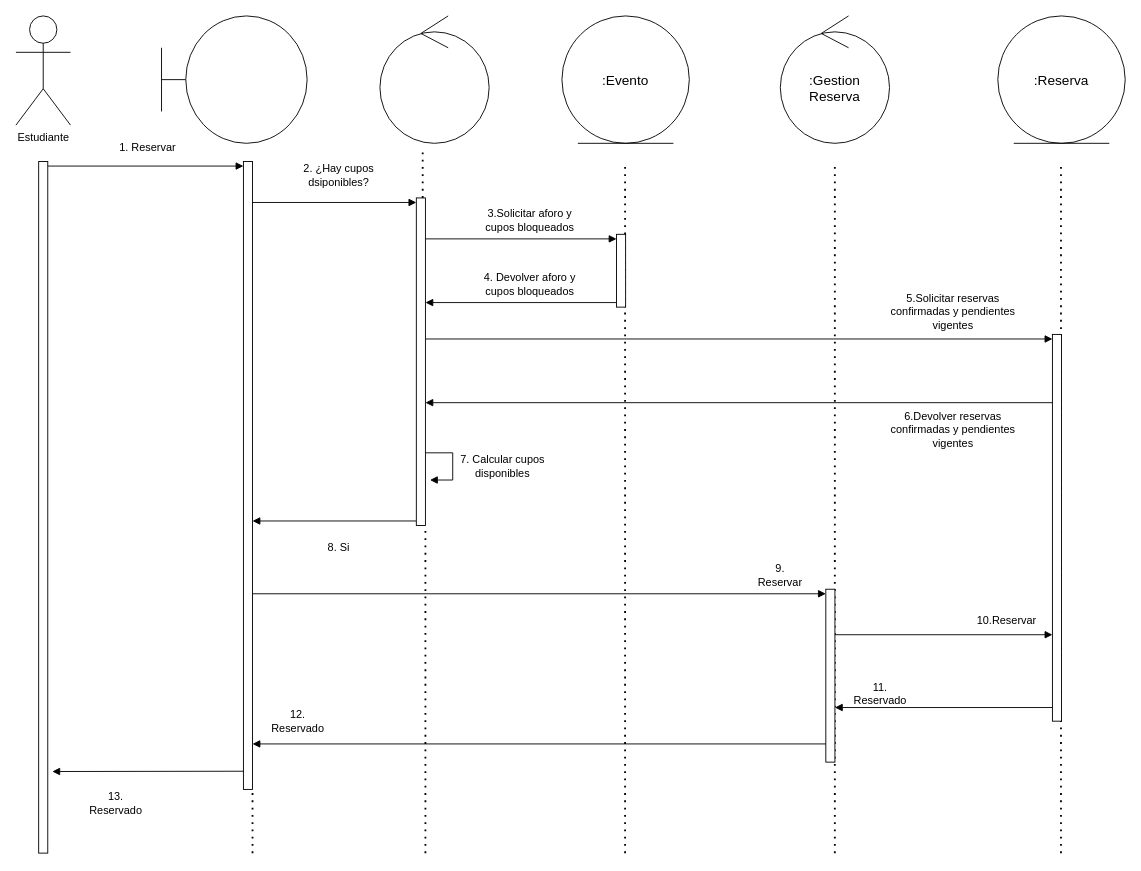
This 1141x871 diagram has some shape labels left out. The shapes that lost their labels are listed below. From the top down, each one's centre as x and y in pixels, then its label:
At pixel 234 79: ":PantallaEvento".
At pixel 434 79: ":Calculo Disponibilidad".
